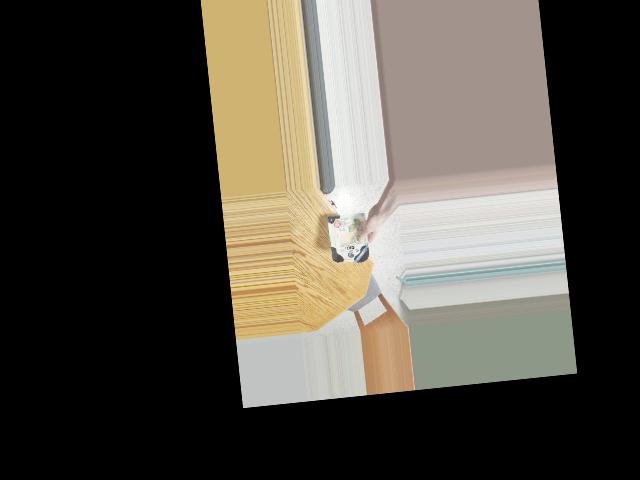cheese: (327, 209, 373, 265)
